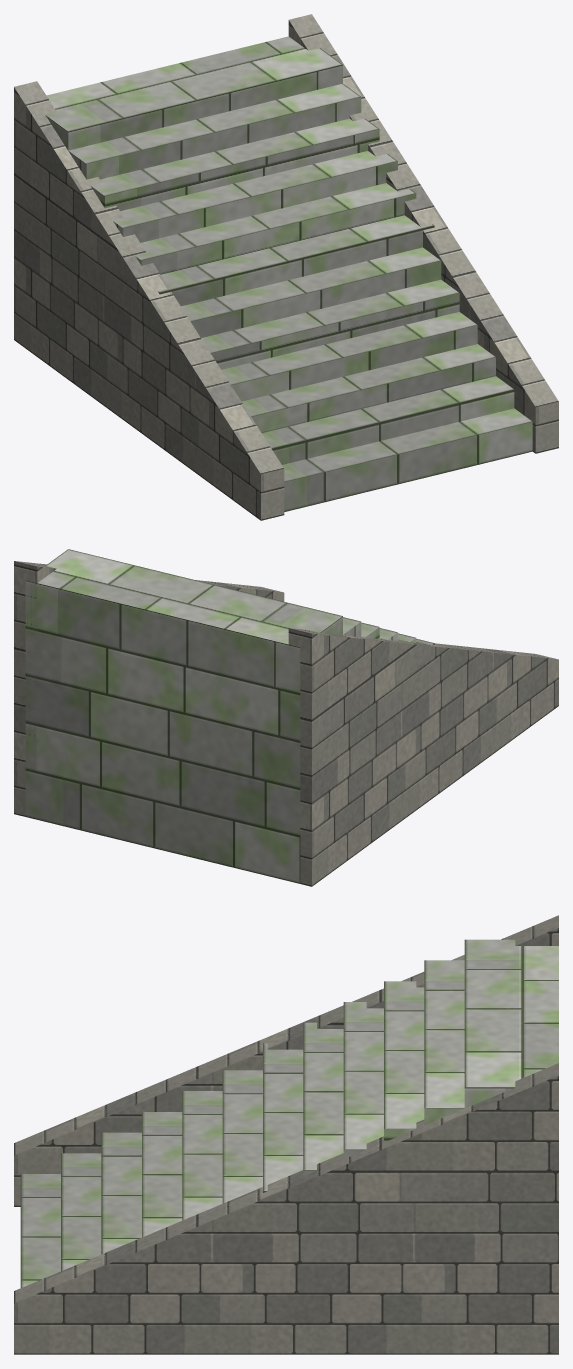
Rendered from stone_steps.glb.
3 renders of one model, top to bottom at view 1: azimuth 30°, elevation 25°; view 2: azimuth 150°, elevation 25°; view 3: azimuth 270°, elevation 25°, orthographic. The views are drawn at different scales.
Parts seen in each view (by area): view 1: stone_steps; view 2: stone_steps; view 3: stone_steps.
Boxes of the visible parts, x1,y1,x2,y2 form: stone_steps: [14, 14, 558, 520]; stone_steps: [14, 549, 558, 886]; stone_steps: [14, 915, 558, 1354].
Size of the model in its own units: 2.82 by 2.29 by 4.05.
2 materials, 2 textured.
